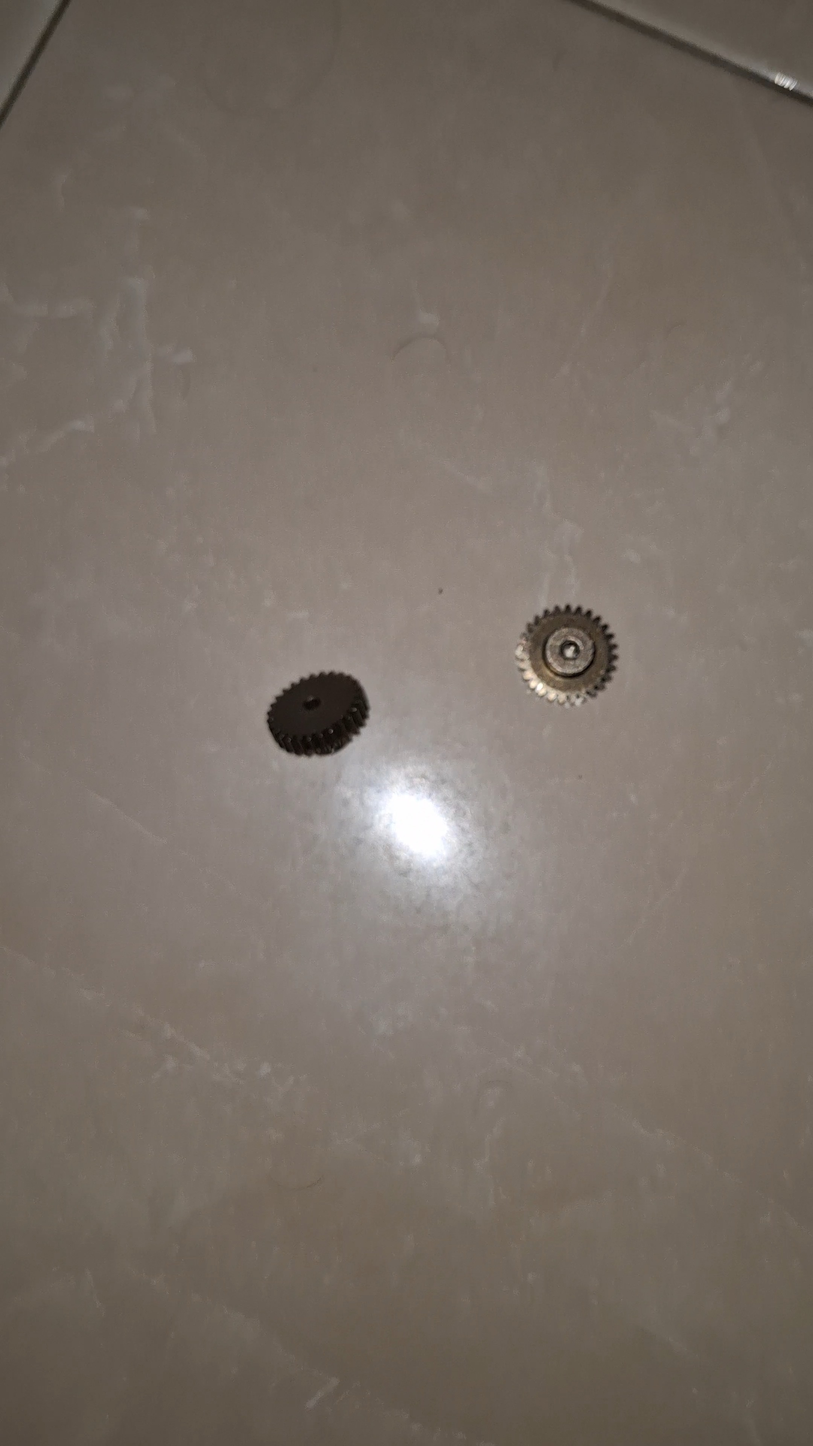spur gear: (515, 607, 616, 706), (268, 672, 368, 755)
